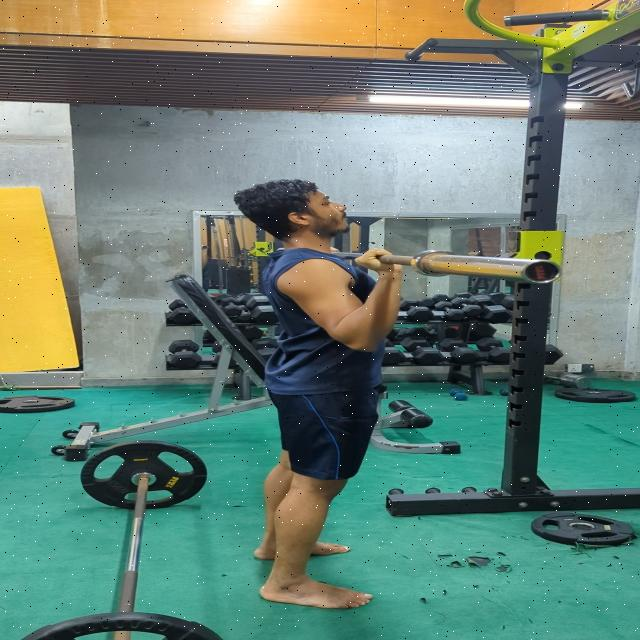Normal_OverheadPress: (202, 168, 432, 622)
